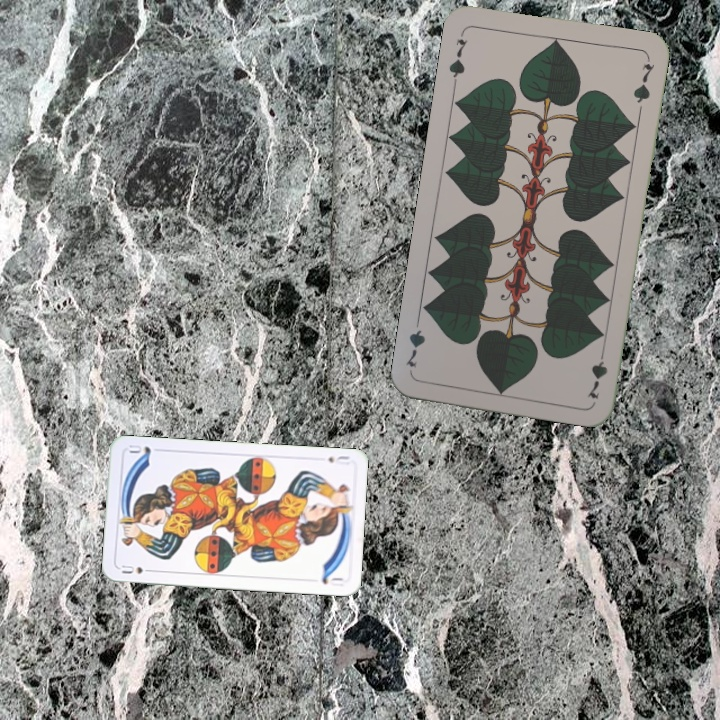G7: (583, 343, 610, 402), (444, 35, 470, 87)
SU: (118, 561, 157, 576), (324, 451, 352, 468)
